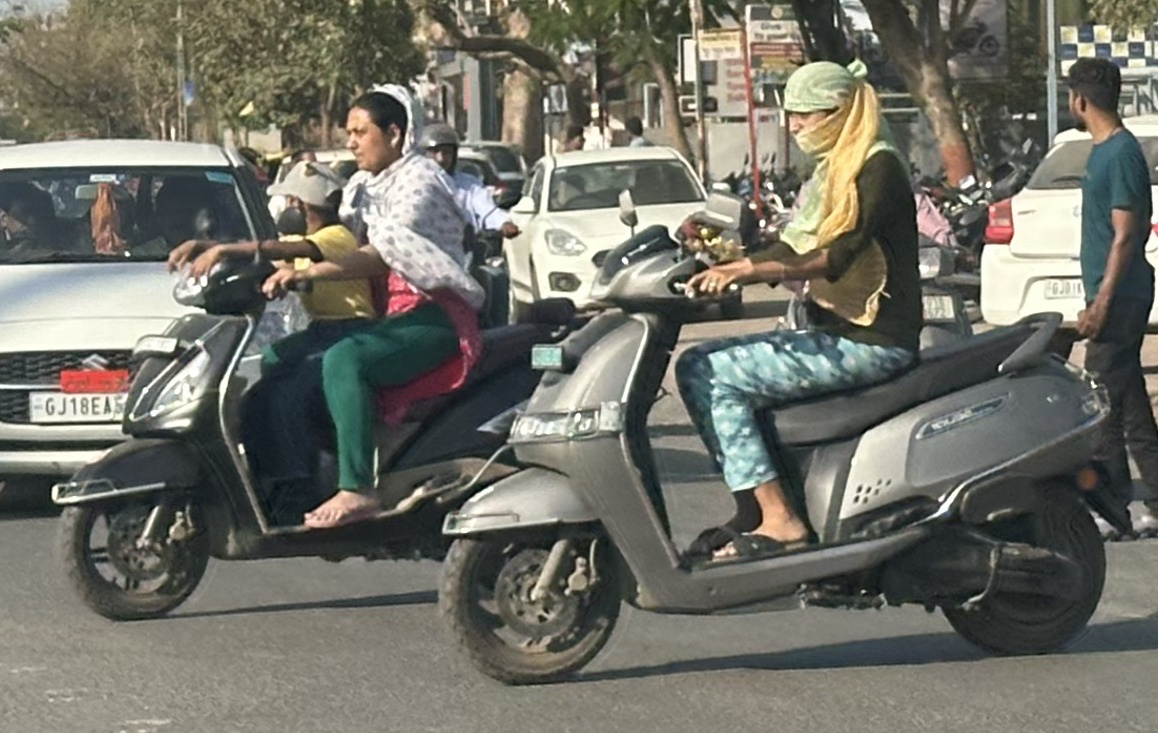BikeWithRider: (428, 58, 1124, 686), (34, 79, 619, 634)
NoHelmet: (762, 56, 890, 156), (335, 81, 424, 177), (265, 160, 344, 242)
